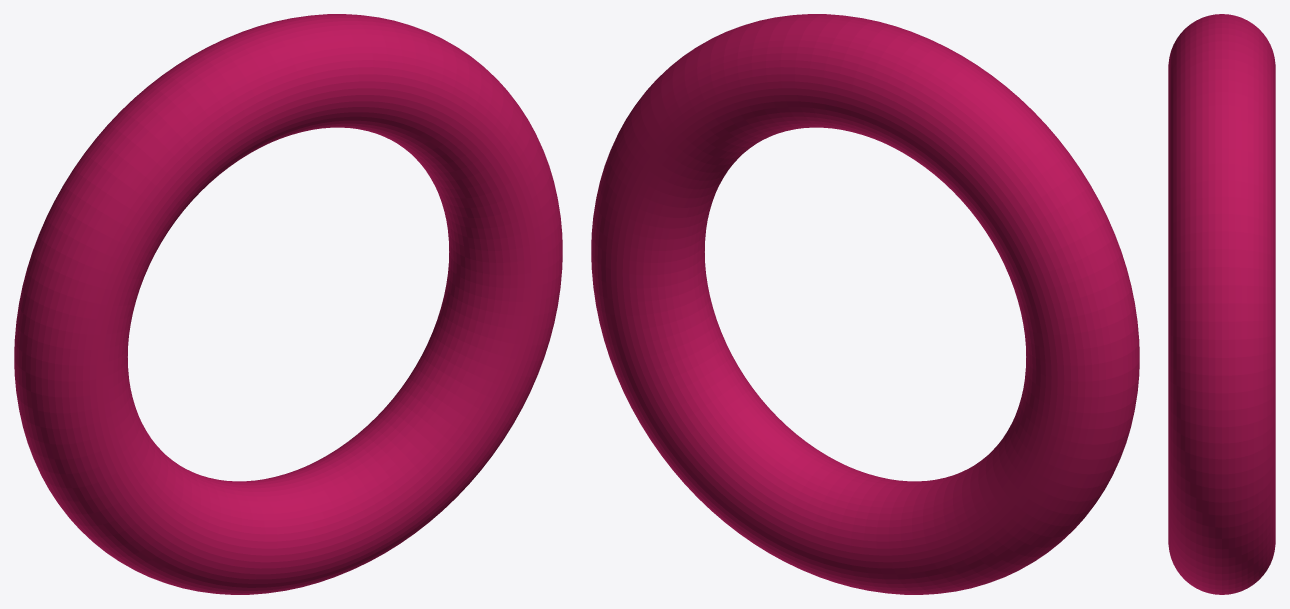
3 views of the same model, side by side, from view 1: azimuth 30°, elevation 25°; view 2: azimuth 150°, elevation 25°; view 3: azimuth 270°, elevation 25° (orthographic). The views are drawn at different scales.
Parts seen in each view (by area): view 1: world; view 2: world; view 3: world.
Part boxes in pixels (left/top/right/bottom): world: left=14, top=14, right=562, bottom=594; world: left=591, top=14, right=1139, bottom=594; world: left=1168, top=14, right=1275, bottom=594.
Bounding box in the file's own units: 31.07 × 31.07 × 5.72.
